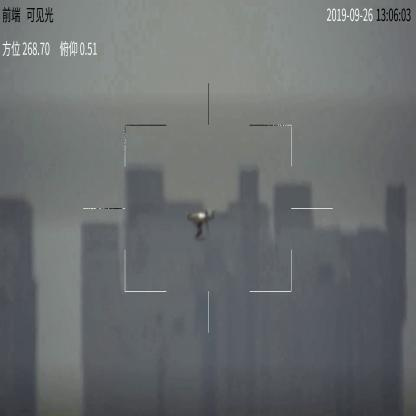uav: (179, 207, 218, 240)
